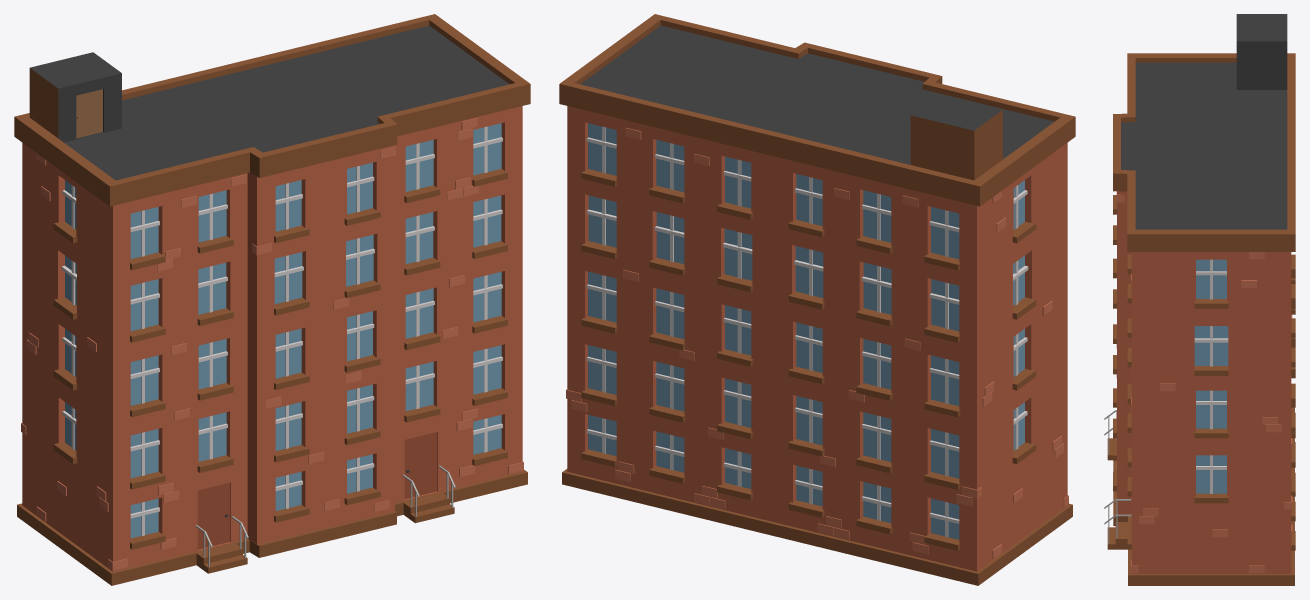
The model's file is House_08.fbx.
The picture shows the model from 3 angles, left to right: view 1: azimuth 30°, elevation 25°; view 2: azimuth 150°, elevation 25°; view 3: azimuth 270°, elevation 25°; orthographic projection. The views are drawn at different scales.
Visible parts, largest first — view 1: House_08; view 2: House_08; view 3: House_08.
Boxes of the visible parts, x1=… form: House_08: x1=14, y1=14, x2=530, y2=585; House_08: x1=559, y1=14, x2=1075, y2=585; House_08: x1=1104, y1=14, x2=1295, y2=585.
Bounding box in the file's own units: 28.12 × 28.75 × 12.59.
